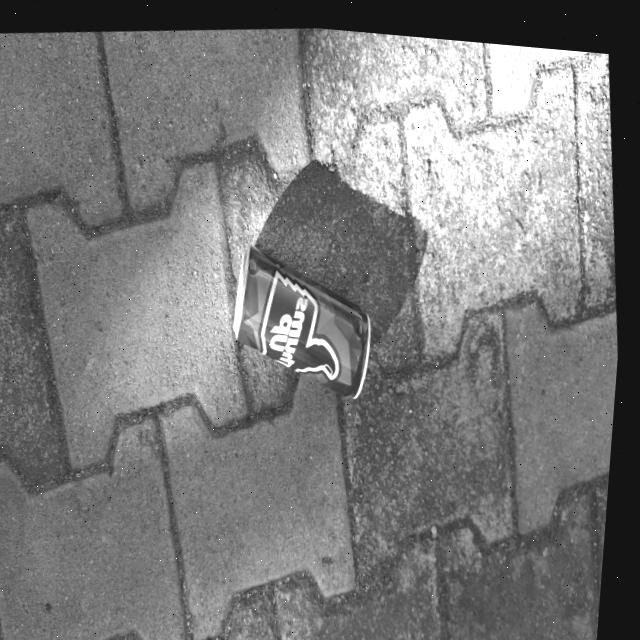Thums Up: (219, 229, 391, 400)
